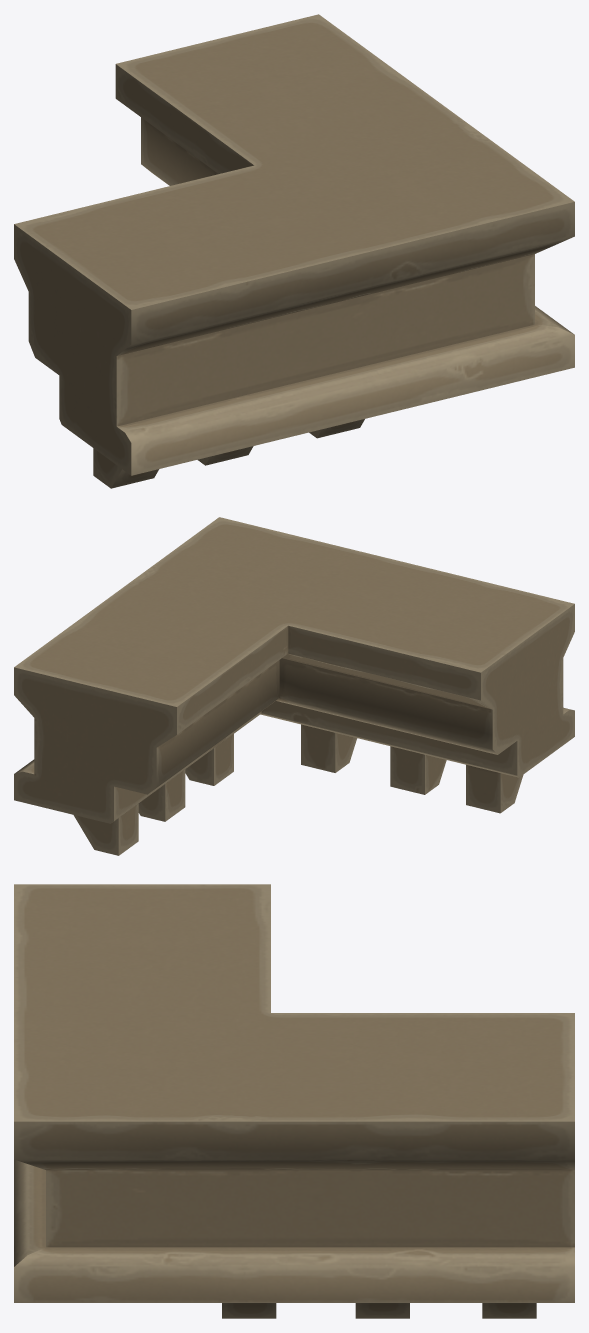
File: ARC0510058.fbx
3 renders of one model, top to bottom at view 1: azimuth 30°, elevation 25°; view 2: azimuth 150°, elevation 25°; view 3: azimuth 270°, elevation 25°, orthographic. The views are drawn at different scales.
Visible parts, largest first — view 1: smARC0510058; view 2: smARC0510058; view 3: smARC0510058.
Boxes of the visible parts, x1,y1,x2,y2 form: smARC0510058: [14, 14, 574, 488]; smARC0510058: [14, 517, 574, 855]; smARC0510058: [14, 884, 574, 1318].
Size of the model in its own units: 195 by 92.42 by 195.
1 material, 1 textured.
